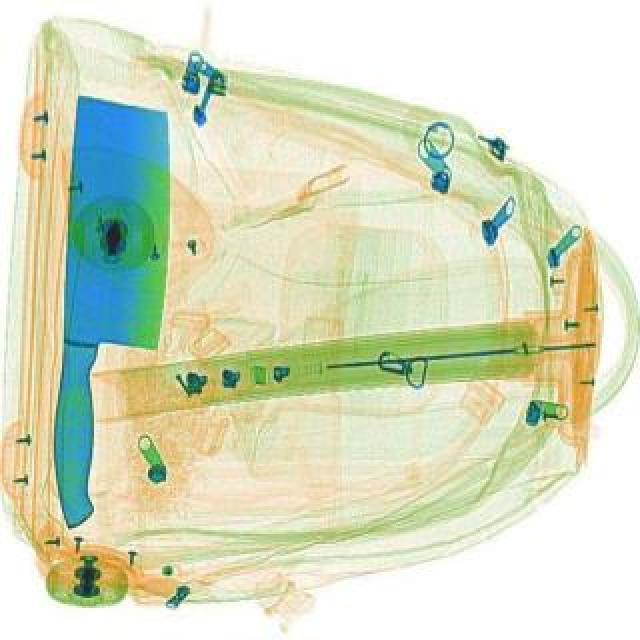knife: (50, 92, 174, 528)
